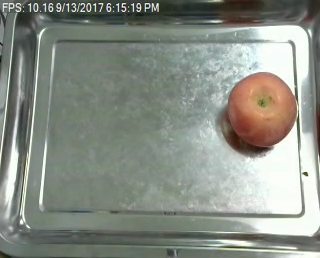Apple: (223, 70, 300, 150)
